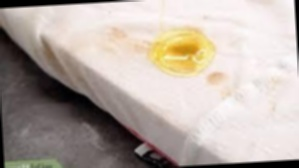oil: (143, 31, 217, 77), (99, 31, 155, 53), (201, 62, 231, 90), (220, 84, 247, 101)
